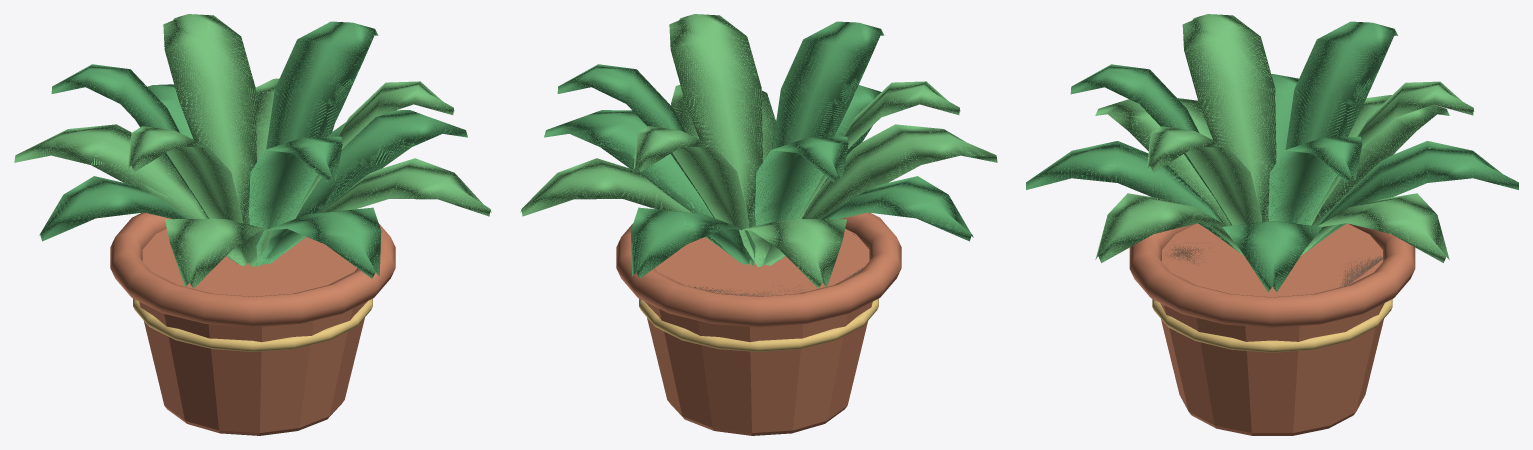
The model's file is potted_fern.glb.
3 views of the same model, side by side, from view 1: azimuth 30°, elevation 25°; view 2: azimuth 150°, elevation 25°; view 3: azimuth 270°, elevation 25° (orthographic).
Visible parts, largest first — view 1: PotBase, Leaf_1, Leaf_0, PotBand; view 2: PotBase, Leaf_1, Leaf_0, PotBand; view 3: PotBase, Leaf_1, Leaf_0, PotBand, Soil.
Boxes of the visible parts, x1=… form: PotBase: x1=110, y1=212, x2=395, y2=435; Leaf_1: x1=14, y1=14, x2=491, y2=288; Leaf_0: x1=39, y1=21, x2=467, y2=278; PotBand: x1=133, y1=298, x2=372, y2=351; PotBase: x1=616, y1=212, x2=901, y2=435; Leaf_1: x1=520, y1=14, x2=997, y2=288; Leaf_0: x1=544, y1=21, x2=973, y2=278; PotBand: x1=639, y1=298, x2=878, y2=351; PotBase: x1=1129, y1=223, x2=1415, y2=435; Leaf_1: x1=1095, y1=14, x2=1474, y2=262; Leaf_0: x1=1026, y1=21, x2=1518, y2=291; PotBand: x1=1152, y1=299, x2=1392, y2=352; Soil: x1=1167, y1=244, x2=1382, y2=286.
Size of the model in its own units: 2.26 by 1.63 by 2.26.
